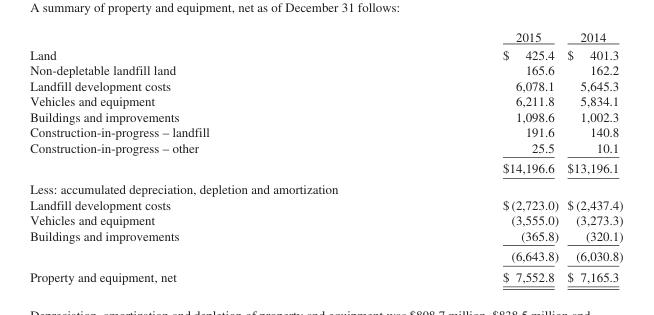table: (29, 29, 622, 283)
table column: (29, 29, 355, 283), (355, 29, 562, 283), (562, 29, 622, 283)
table column header: (29, 29, 622, 45)
table projected row header: (29, 178, 622, 196)
table row: (29, 157, 622, 178), (29, 245, 622, 266), (29, 139, 622, 157), (29, 178, 622, 196), (29, 227, 622, 245), (29, 45, 622, 62), (29, 266, 622, 283), (29, 29, 622, 45), (29, 77, 622, 93), (29, 108, 622, 124), (29, 196, 622, 212), (29, 62, 622, 77), (29, 93, 622, 108), (29, 124, 622, 139), (29, 212, 622, 227)
